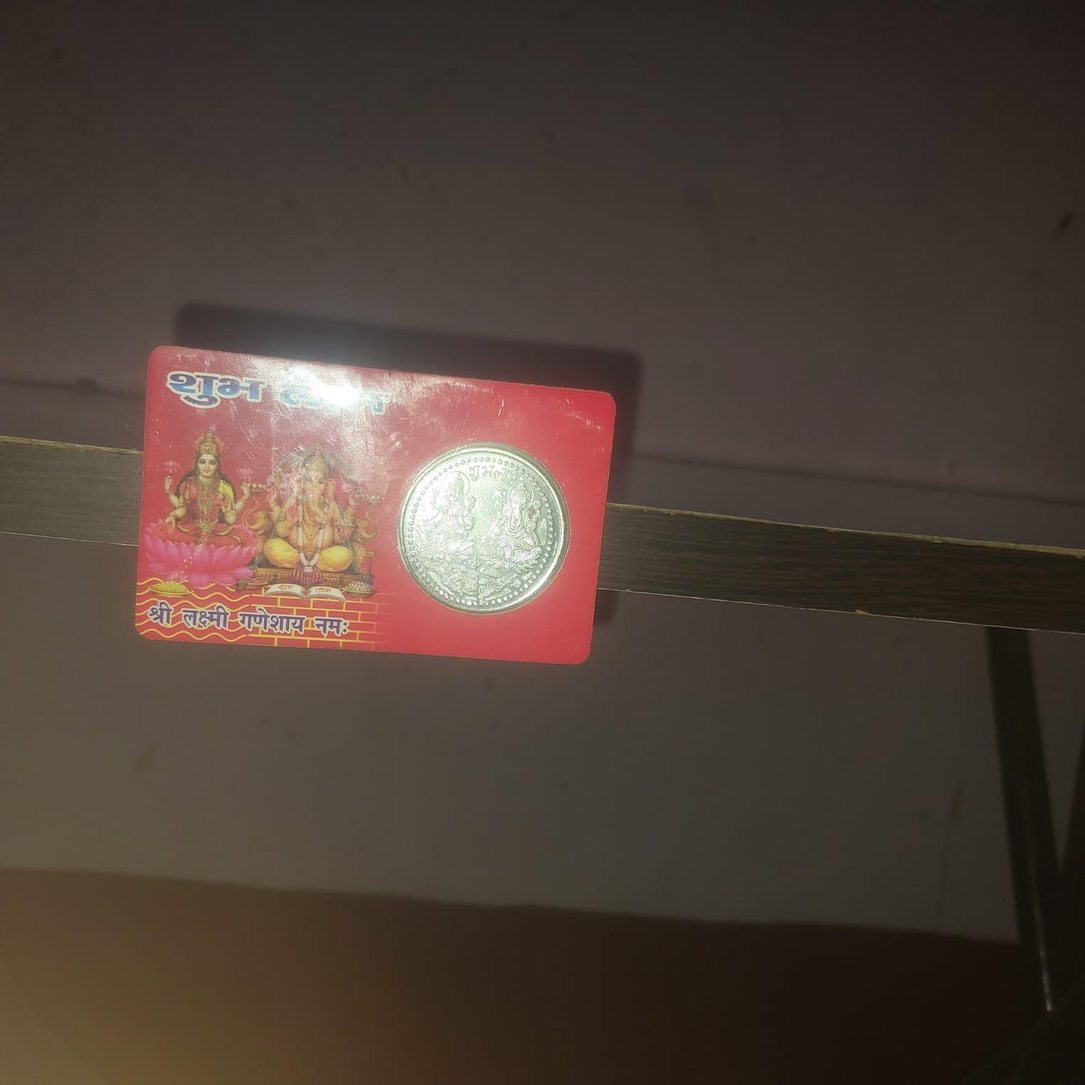blessing_card: (139, 340, 618, 666)
